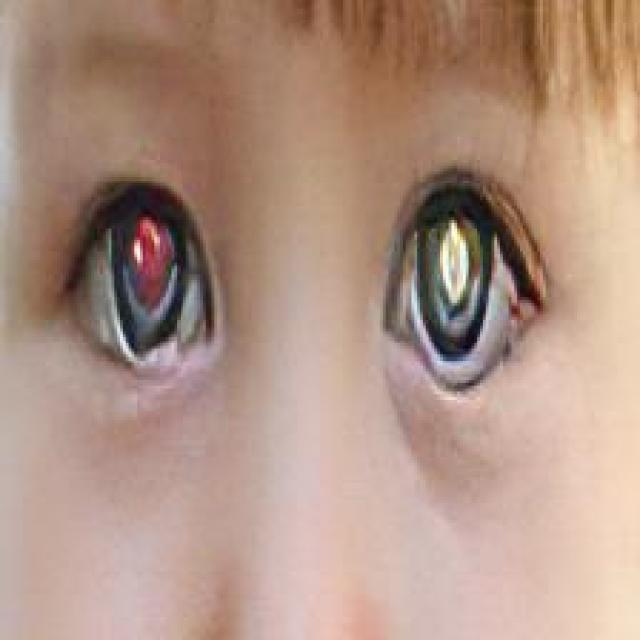reflexo-alterado: (32, 169, 238, 403), (386, 182, 550, 388)
